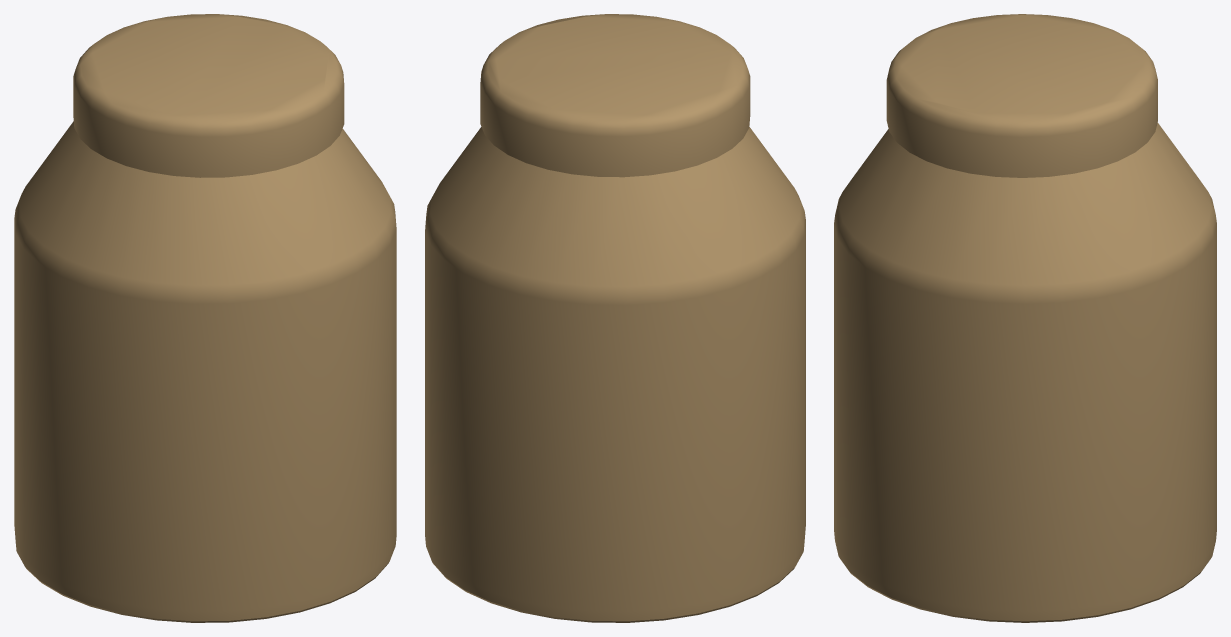
The model's file is Jar.fbx.
3 views of the same model, side by side, from view 1: azimuth 30°, elevation 25°; view 2: azimuth 150°, elevation 25°; view 3: azimuth 270°, elevation 25° (orthographic).
Parts seen in each view (by area): view 1: Jar; view 2: Jar; view 3: Jar.
Part boxes in pixels (<box>): Jar: <box>14,14,396,622</box>; Jar: <box>425,14,805,622</box>; Jar: <box>834,14,1216,622</box>.
Bounding box in the file's own units: 12.06 × 12.06 × 16.6.
